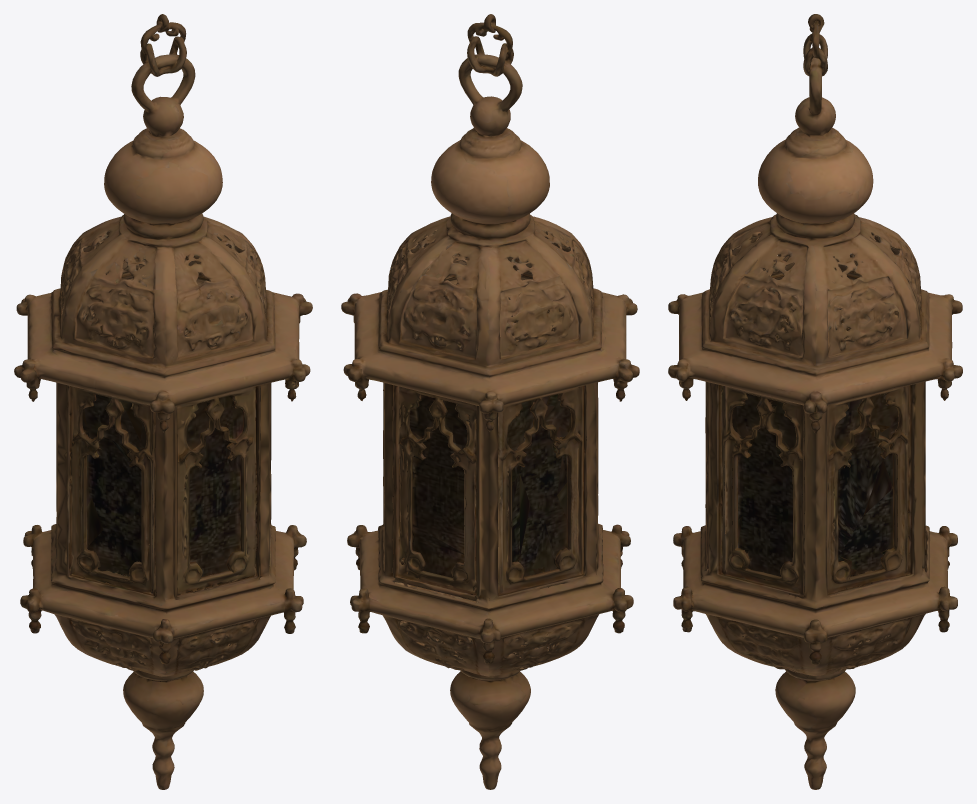
Rendered from gilded-bronze-lantern-hanging-optimized.glb.
3 views of the same model, side by side, from view 1: azimuth 30°, elevation 25°; view 2: azimuth 150°, elevation 25°; view 3: azimuth 270°, elevation 25° (orthographic).
Visible parts, largest first — view 1: world; view 2: world; view 3: world.
Boxes of the visible parts, <box> form: world: <box>14,14,312,789</box>; world: <box>341,14,639,789</box>; world: <box>668,14,962,789</box>.
Size of the model in its own units: 0.3938 by 1 by 0.3451.
Materials: 1 (1 with a texture image).
